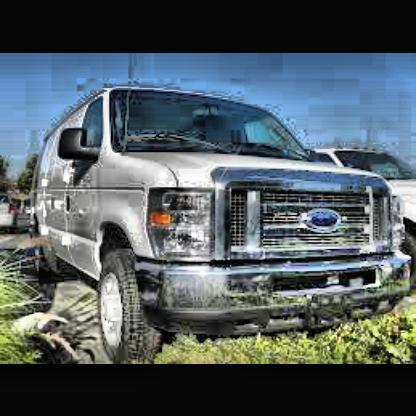Ford E-Series Wagon Van 2012: (30, 80, 412, 364)
